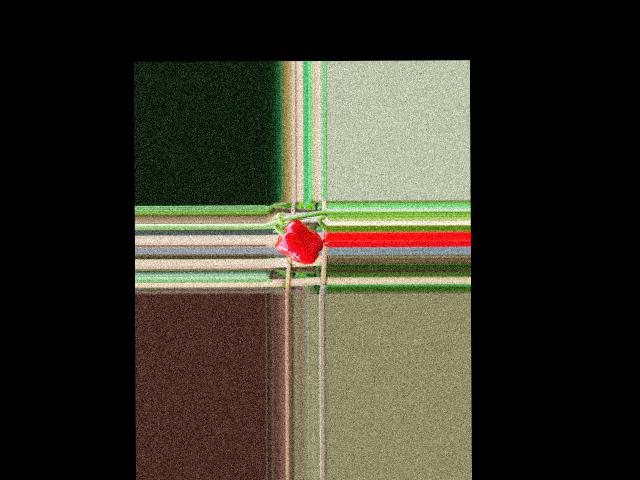bell_pepper: (274, 216, 322, 267)
